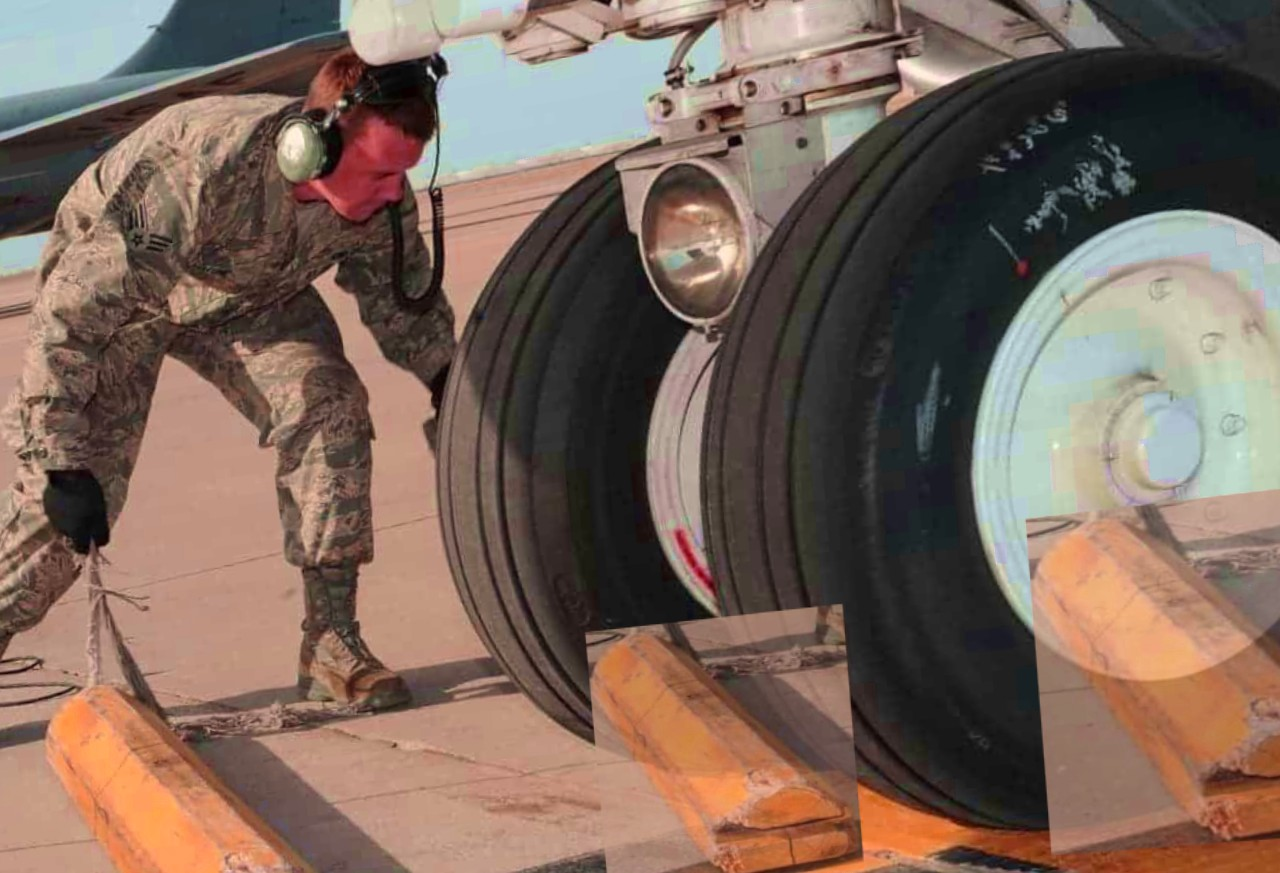chock: (1025, 477, 1280, 859), (585, 604, 865, 873), (36, 651, 360, 873)
wheel: (665, 0, 1280, 850), (410, 111, 837, 795)
